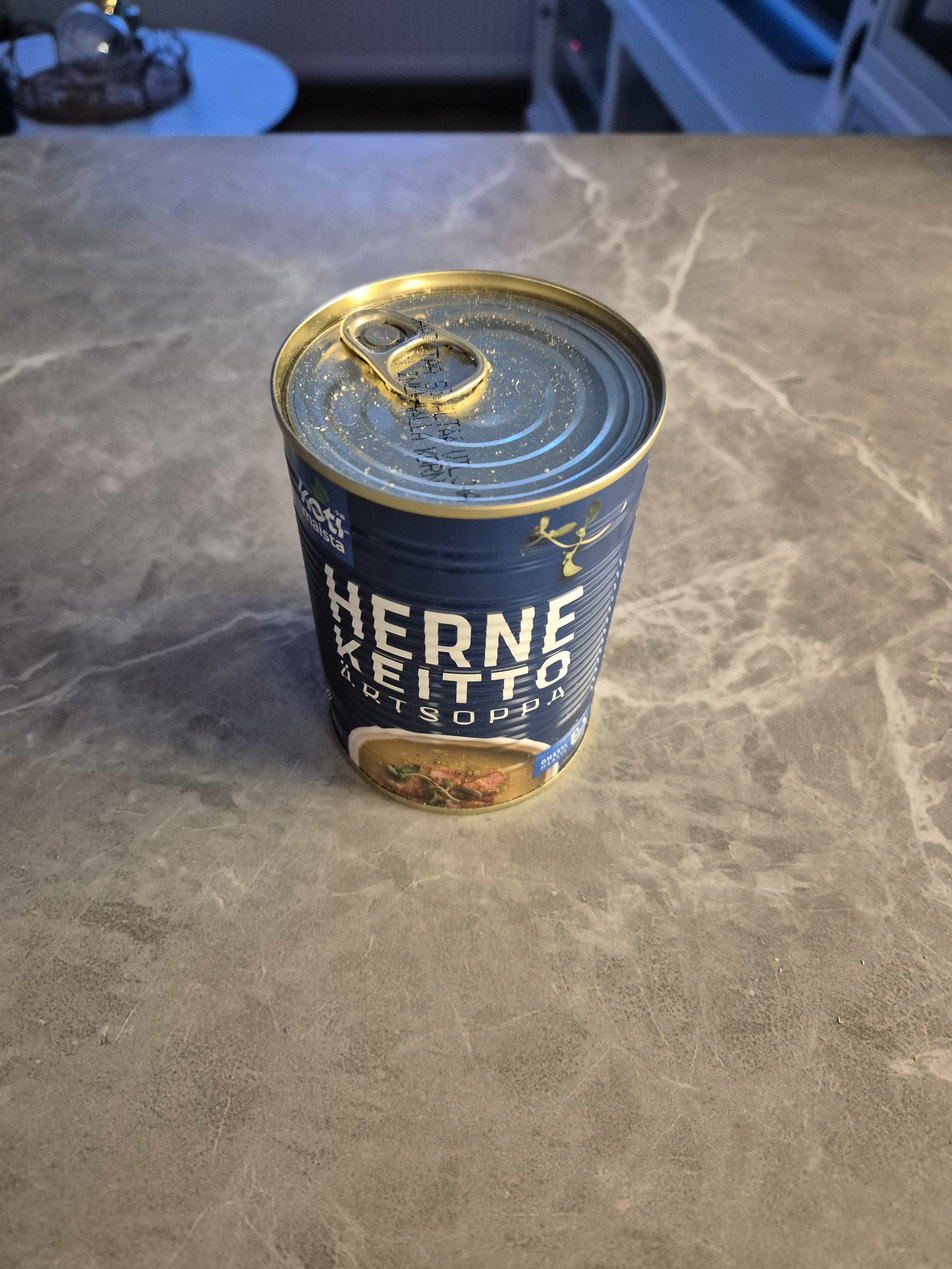Konservburk: (270, 267, 671, 815)
